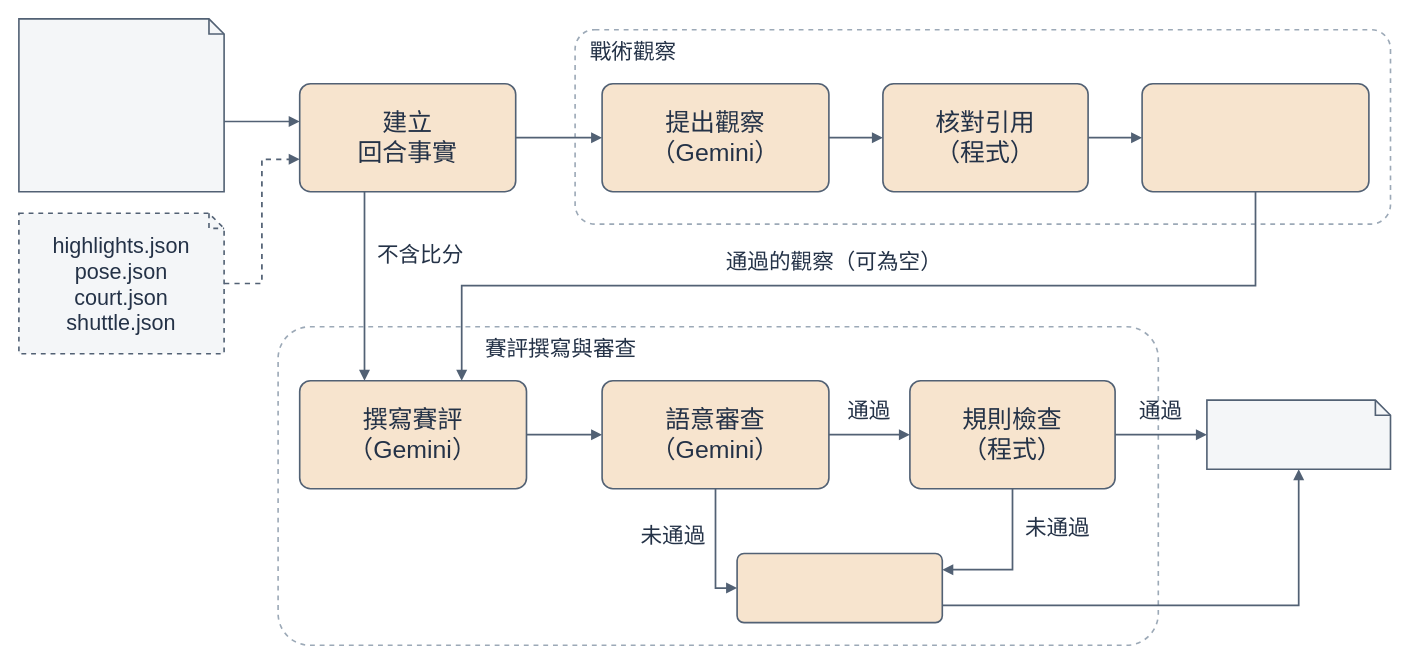
This 1410x665 diagram has some shape labels left out. Each missing label, with the centre of its shape:
"commentary.json" belongs at point 1298,434.
"segments.json events.json strokes.json scores.json identity.json" belongs at point 121,105.
"審查觀察 （Gemini）" belongs at point 1255,137.
"模板句" belongs at point 839,587.
